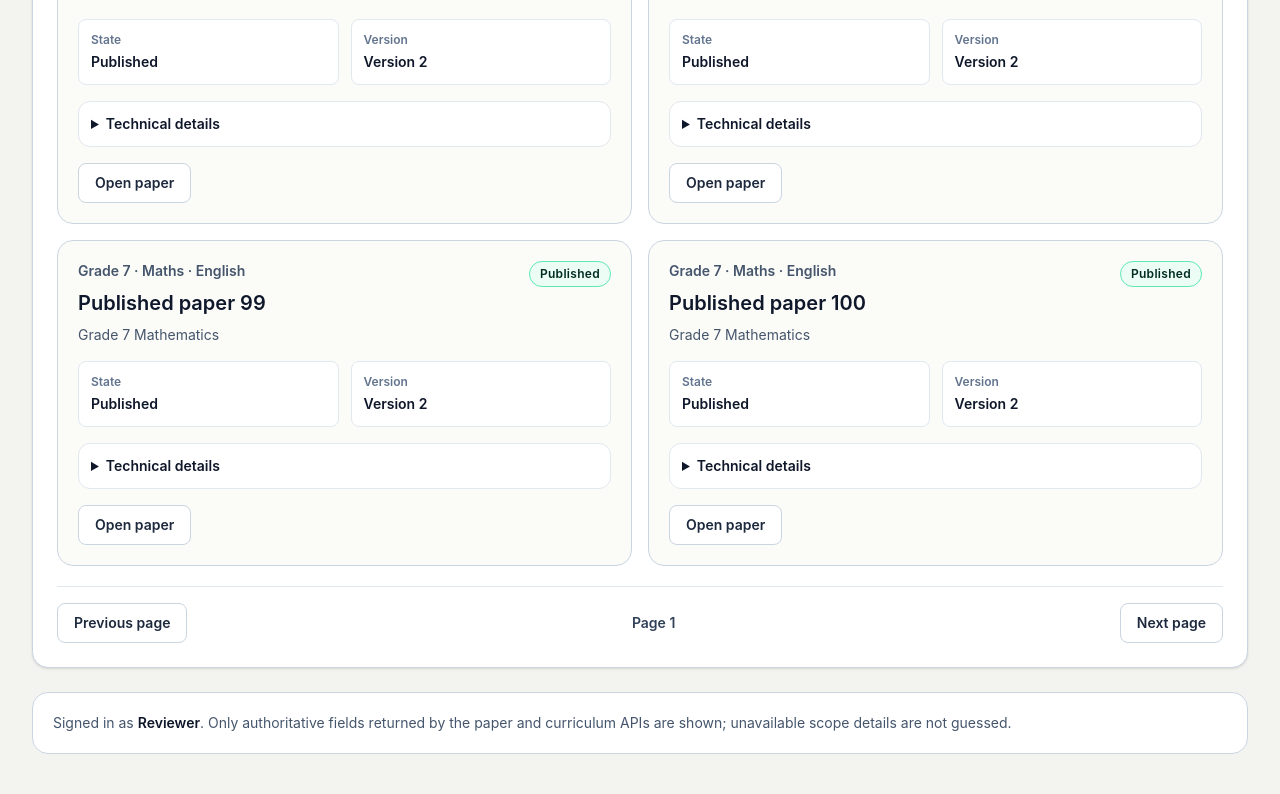
Scenario: PublishedPapersLibrary › uses bounded pagination so papers after the first page remain findable
(page scrolled)
Expected: the element "Grade 7 Maths draft ready to publish" is not shown
Click the button "Next page". click: [1171, 623]
box: [1120,603,1223,643]
(page scrolled)
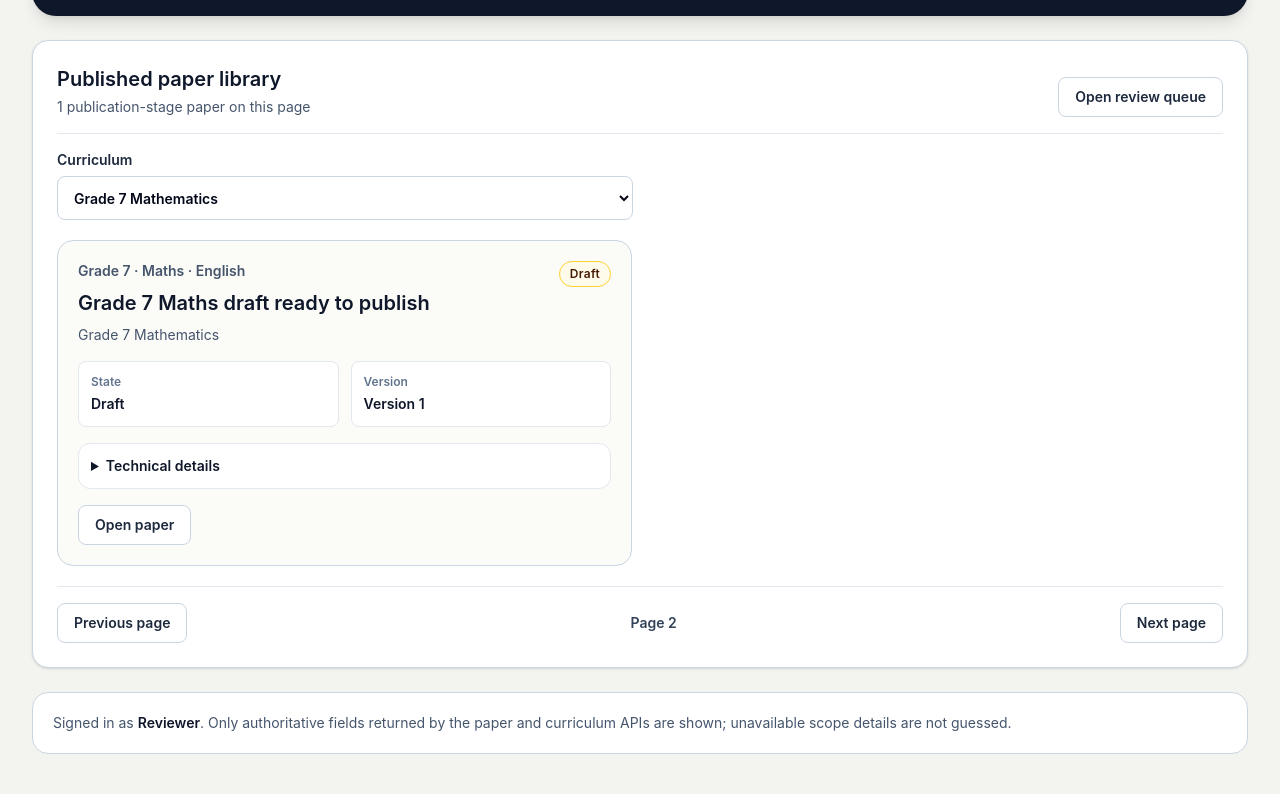
Expected: the button "Previous page" is enabled, [57,603,188,643]
Expected: the element "Grade 7 Maths draft ready to publish" is shown, [57,240,632,566]
